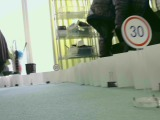speed_30: (120, 14, 154, 49)
